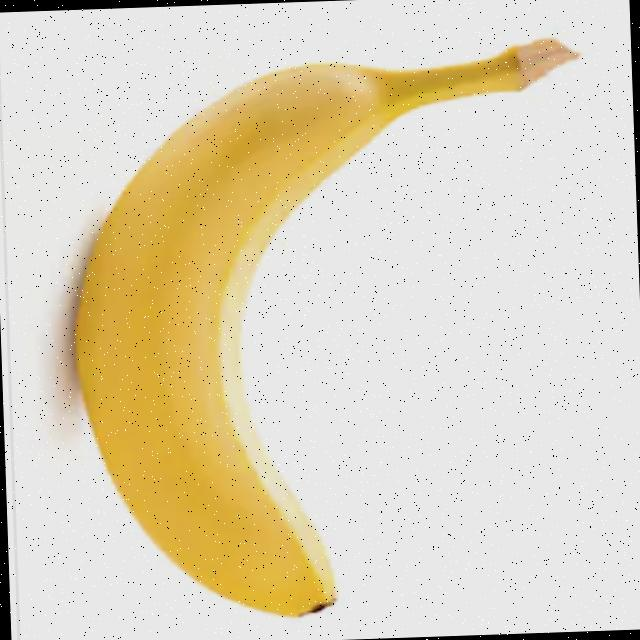Ripe: (62, 42, 540, 628)
